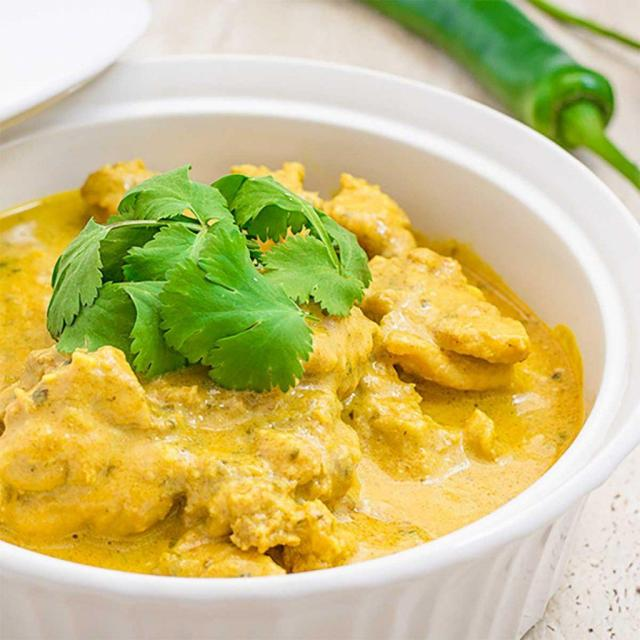chicken: (5, 179, 562, 553)
